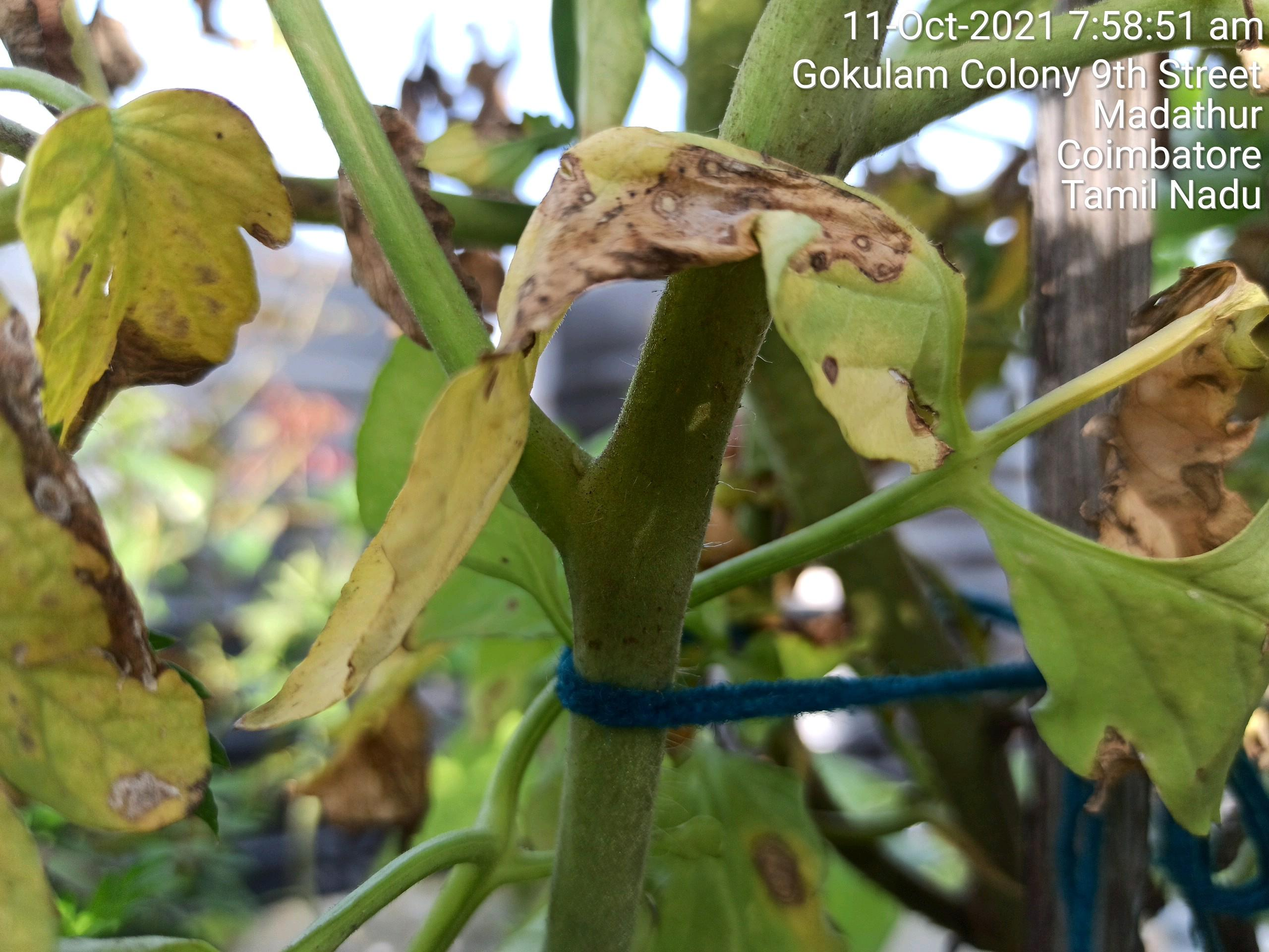Early Blight: (238, 119, 963, 733), (0, 290, 226, 845), (7, 84, 295, 459)
